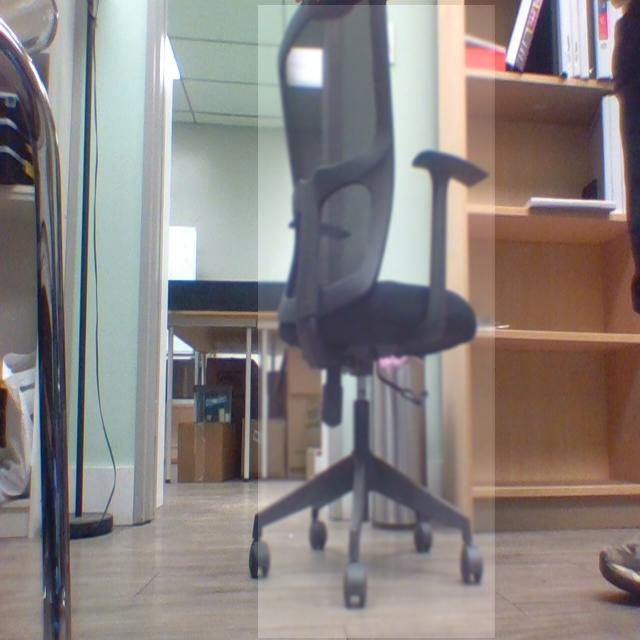black-chair: (258, 5, 496, 639)
